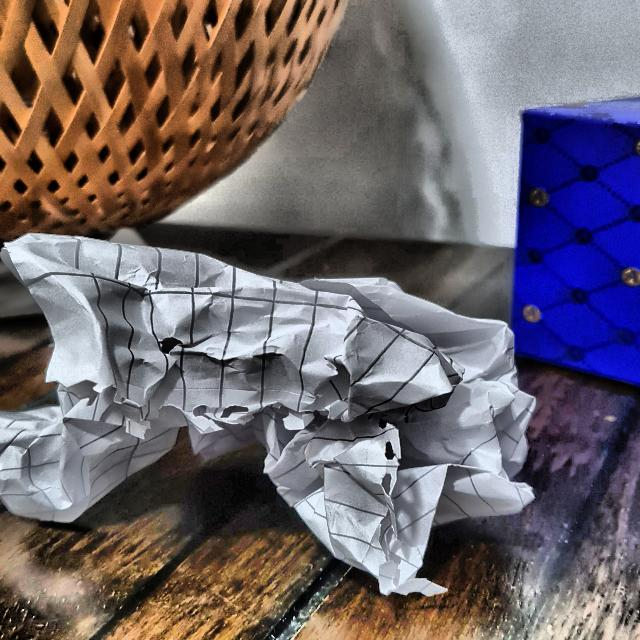paper: (0, 233, 544, 586)
